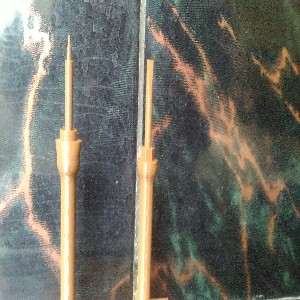obeng: (137, 59, 158, 300)
solder: (53, 34, 82, 300)
